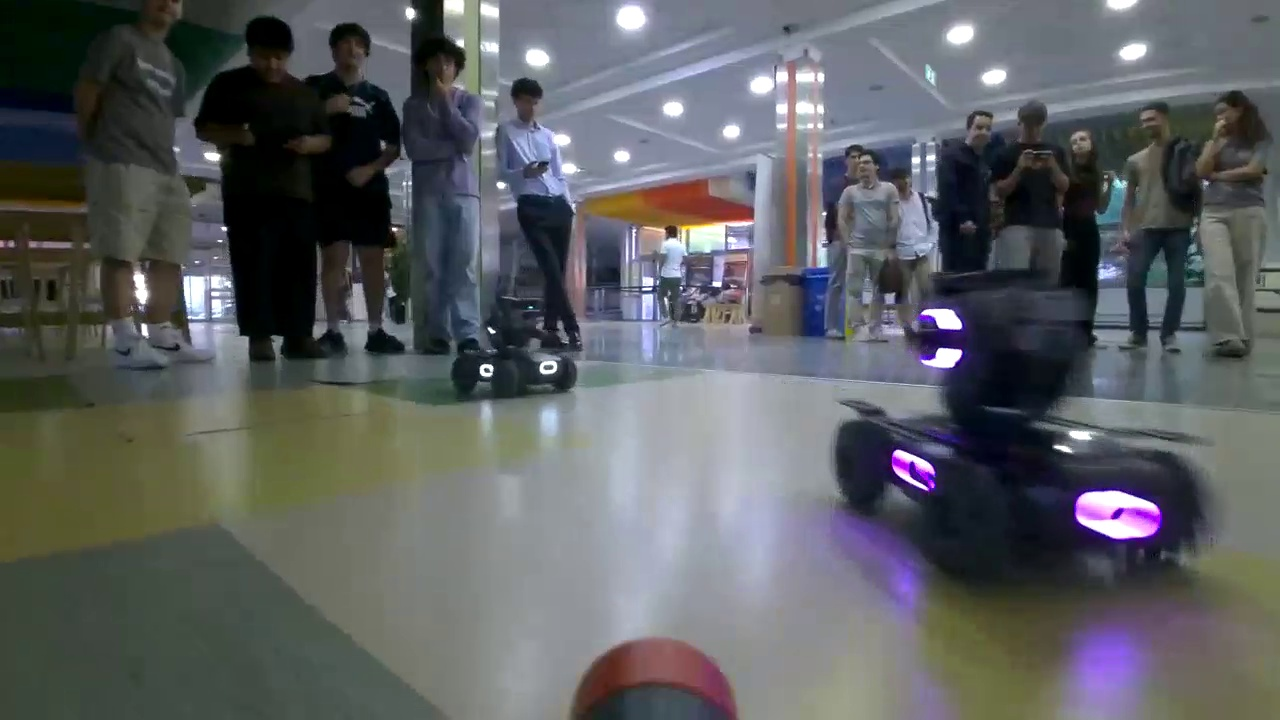robot: (832, 298, 1196, 570), (454, 300, 576, 394)
